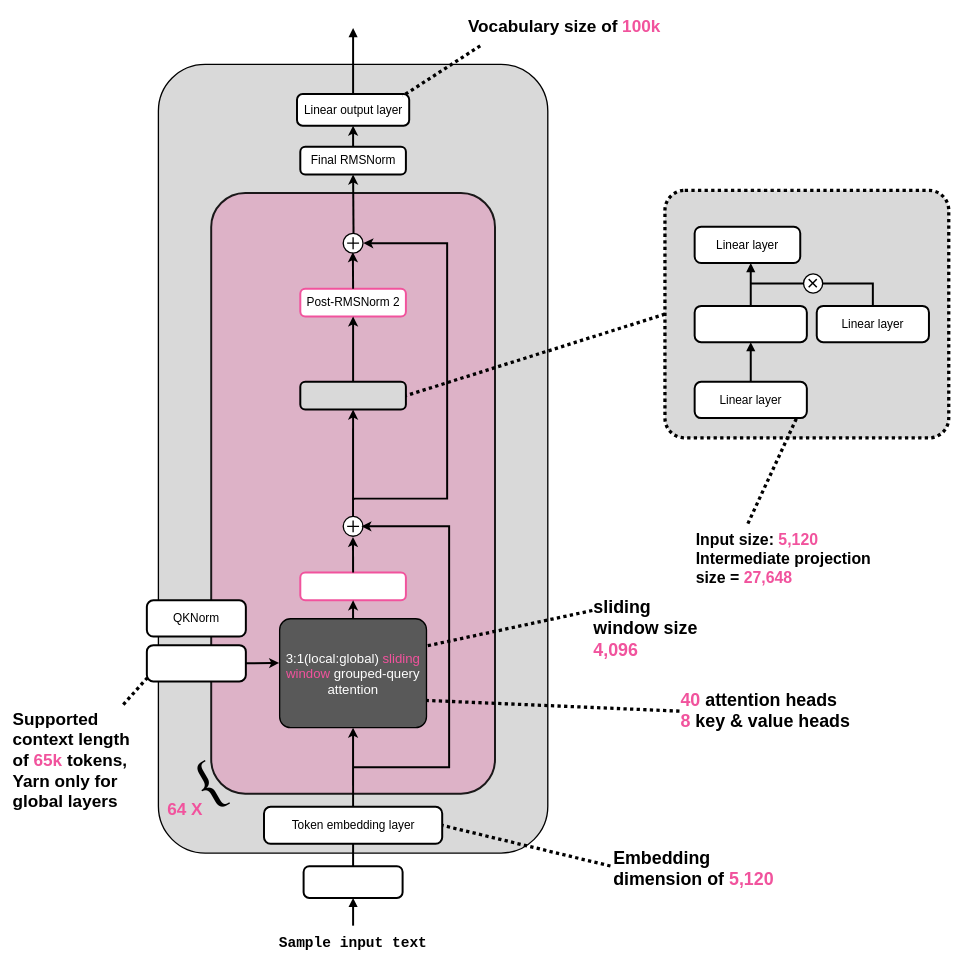
Image size: 962x970. Some labels were removed from this diagram. Here are the shapes that lost their labels. From the top down, the centre of each, then its label:
At point 750,324: "SiLU activation".
At point 353,395: "Feed forward".
At point 353,586: "Post-RMSNorm 1".
At point 196,663: "RoPE+YsRN".
At point 352,882: "Tokenized text".
